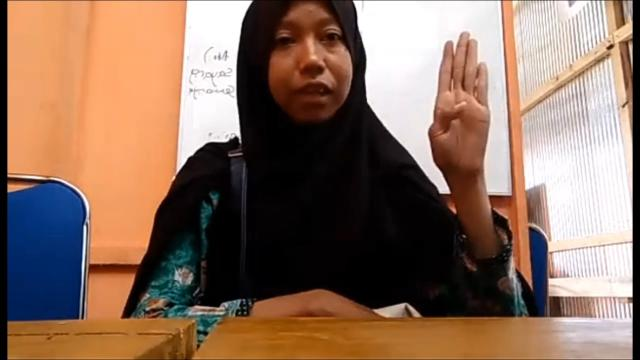B: (426, 31, 492, 179)
